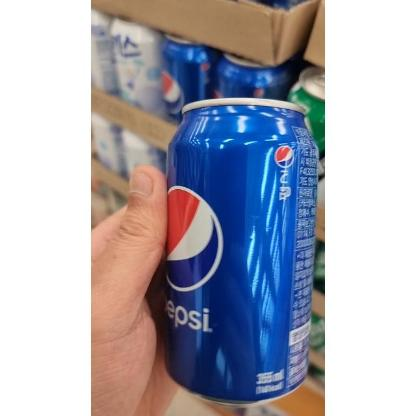Can: (165, 99, 318, 405)
